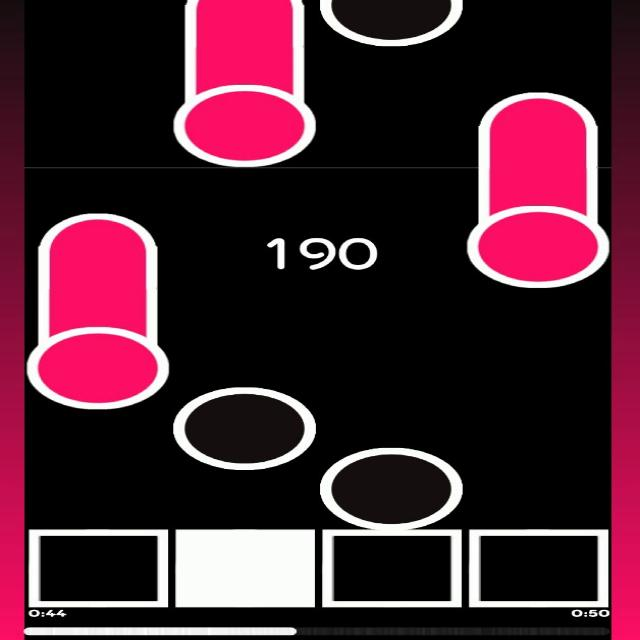end_hold: (474, 81, 606, 135), (33, 202, 161, 254)
note: (321, 446, 461, 530), (173, 388, 316, 470), (321, 0, 469, 49)
start_hold: (173, 60, 321, 170), (25, 307, 174, 412), (464, 187, 612, 290)
